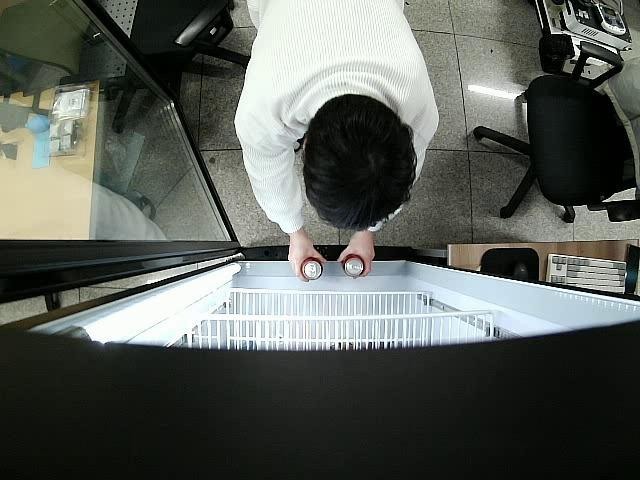11_cocaColaZero: (343, 252, 366, 278), (300, 257, 322, 280)
